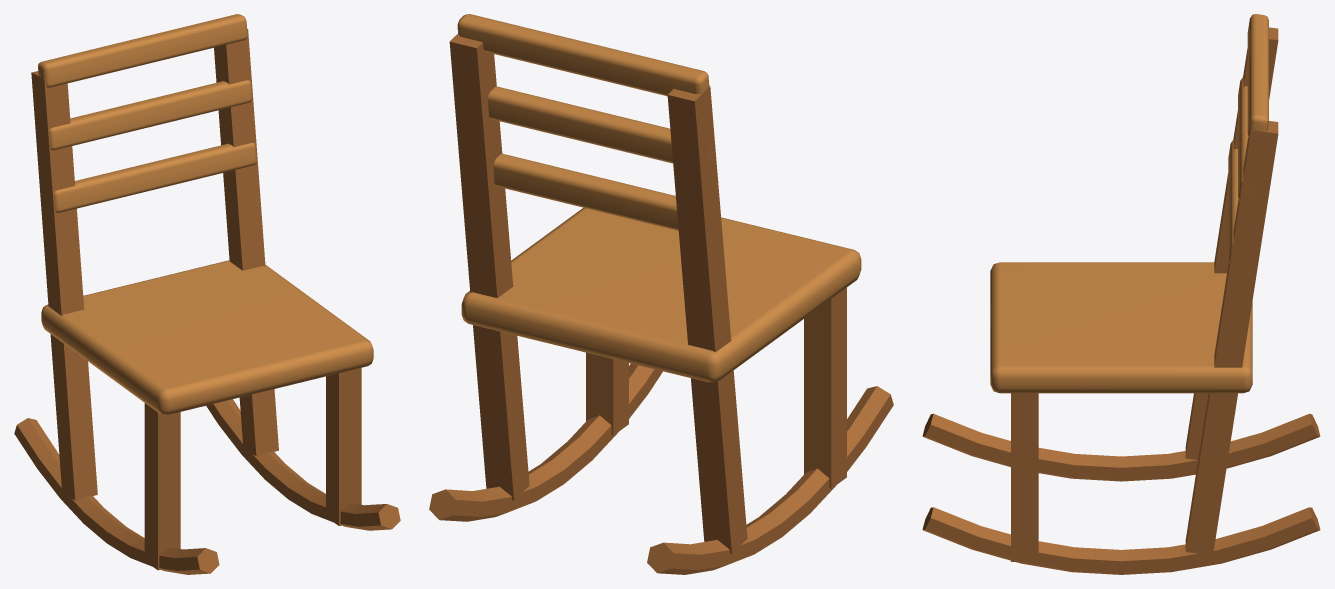
File: RockingChair.fbx
3 views of the same model, side by side, from view 1: azimuth 30°, elevation 25°; view 2: azimuth 150°, elevation 25°; view 3: azimuth 270°, elevation 25° (orthographic). The views are drawn at different scales.
Visible parts, largest first — view 1: RockingChair; view 2: RockingChair; view 3: RockingChair.
Boxes of the visible parts, x1,y1,x2,y2 form: RockingChair: [14, 14, 400, 574]; RockingChair: [429, 14, 893, 574]; RockingChair: [922, 14, 1320, 574].
Bounding box in the file's own units: 1.9 × 3.7 × 2.88.
Materials: 1 (1 with a texture image).
